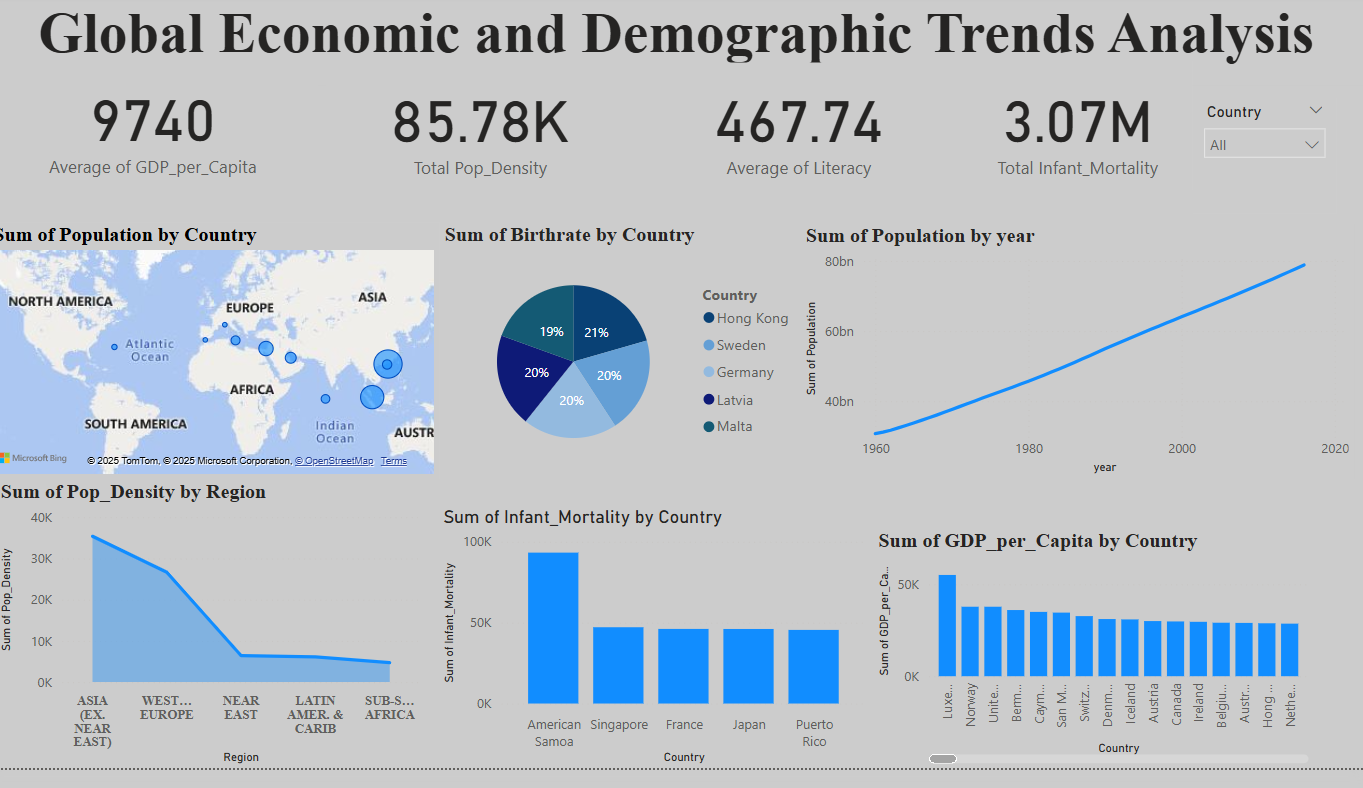

Layout of this report page (visuals, bound fields, positions):
{"tool":"powerbi","page":{"name":"Global Economic And Demographic Analysis","canvas":[1280,720],"ordinal":1},"visuals":[{"type":"pieChart","fields":{"Y":["Sum(countries countries_world.Birthrate)"],"Category":["countries countries_world.Country"]},"box":[419.4,211.6,339.9,238.5],"z":0},{"type":"lineChart","fields":{"Y":["Sum(PopulationPerCountry.Population)"],"Category":["PopulationPerCountry.year"]},"box":[755.5,212.9,515.1,237.6],"z":1000},{"type":"columnChart","fields":{"Category":["countries countries_world.Country"],"Y":["Sum(countries countries_world.GDP_per_Capita)"]},"box":[822.8,497.1,410.3,223.2],"z":2000},{"type":"textbox","box":[0,0,1280.3,84.4],"z":3000},{"type":"areaChart","fields":{"Y":["Sum(countries countries_world.Pop_Density)"],"Category":["countries countries_world.Region"]},"box":[7.3,451.2,403.5,269],"z":4000},{"type":"slicer","fields":{"Values":["countries countries_world.Country"]},"box":[1121.3,95.4,133.3,107.6],"z":5000},{"type":"card","fields":{"Values":["Avg(countries countries_world.GDP_per_Capita)"]},"box":[0,61.1,306.9,118.6],"z":6000},{"type":"card","fields":{"Values":["Sum(countries countries_world.Pop_Density)"]},"box":[314.3,62.4,288.6,118.6],"z":7000},{"type":"card","fields":{"Values":["Avg(countries countries_world.Literacy)"]},"box":[602.9,62.4,304.5,118.6],"z":8000},{"type":"map","fields":{"Category":["countries countries_world.Country","countries countries_world.Population"],"Size":["Sum(countries countries_world.Population)"]},"box":[0,211.3,419.9,238.8],"z":9000},{"type":"card","fields":{"Values":["Sum(countries countries_world.Infant_Mortality)"]},"box":[907.3,61.1,214,119.8],"z":10000},{"type":"clusteredColumnChart","fields":{"Y":["Sum(countries countries_world.Infant_Mortality)"],"Category":["countries countries_world.Country"]},"box":[419,475.3,403.9,244.5],"z":11000}]}

Visuals, with their boxes in screenshot pixels (x1, y1, x2, y2), scaled from the page's 1280x720 canvas onto the 1363x788 screenshot:
pieChart - Sum(countries countries_world.Birthrate) x countries countries_world.Country: [447,232,809,493]
lineChart - Sum(PopulationPerCountry.Population) x PopulationPerCountry.year: [804,233,1353,493]
columnChart - countries countries_world.Country x Sum(countries countries_world.GDP_per_Capita): [876,544,1313,787]
textbox: [0,0,1362,92]
areaChart - Sum(countries countries_world.Pop_Density) x countries countries_world.Region: [8,494,437,787]
slicer - countries countries_world.Country: [1194,104,1336,222]
card - Avg(countries countries_world.GDP_per_Capita): [0,67,327,197]
card - Sum(countries countries_world.Pop_Density): [335,68,642,198]
card - Avg(countries countries_world.Literacy): [642,68,966,198]
map - countries countries_world.Country x countries countries_world.Population: [0,231,447,493]
card - Sum(countries countries_world.Infant_Mortality): [966,67,1194,198]
clusteredColumnChart - Sum(countries countries_world.Infant_Mortality) x countries countries_world.Country: [446,520,876,787]
